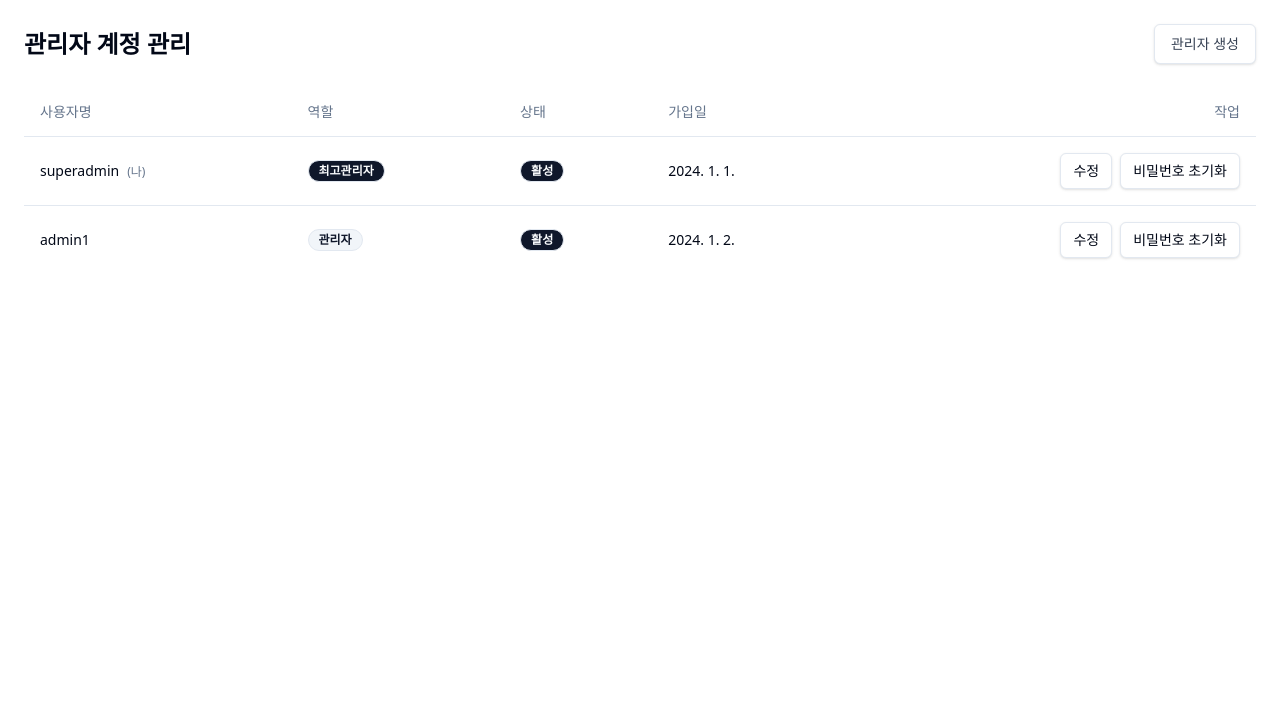
Scenario: AdminUsersPage › 관리자 생성 버튼 클릭 시 생성 다이얼로그가 열린다
Expected: the text "superadmin" is shown, [40, 160, 119, 180]
Click the button "관리자 생성": (1205, 44) [1154, 24, 1256, 64]
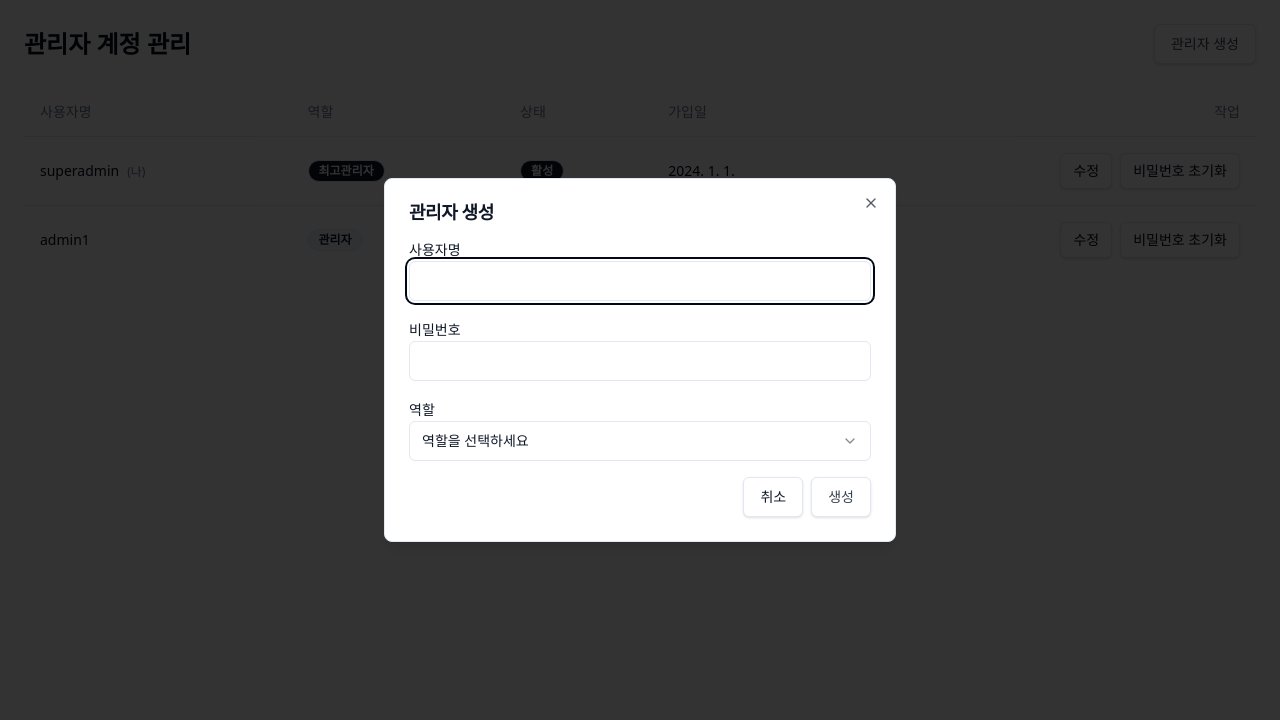
Expected: the dialog is shown, [384, 178, 896, 542]
